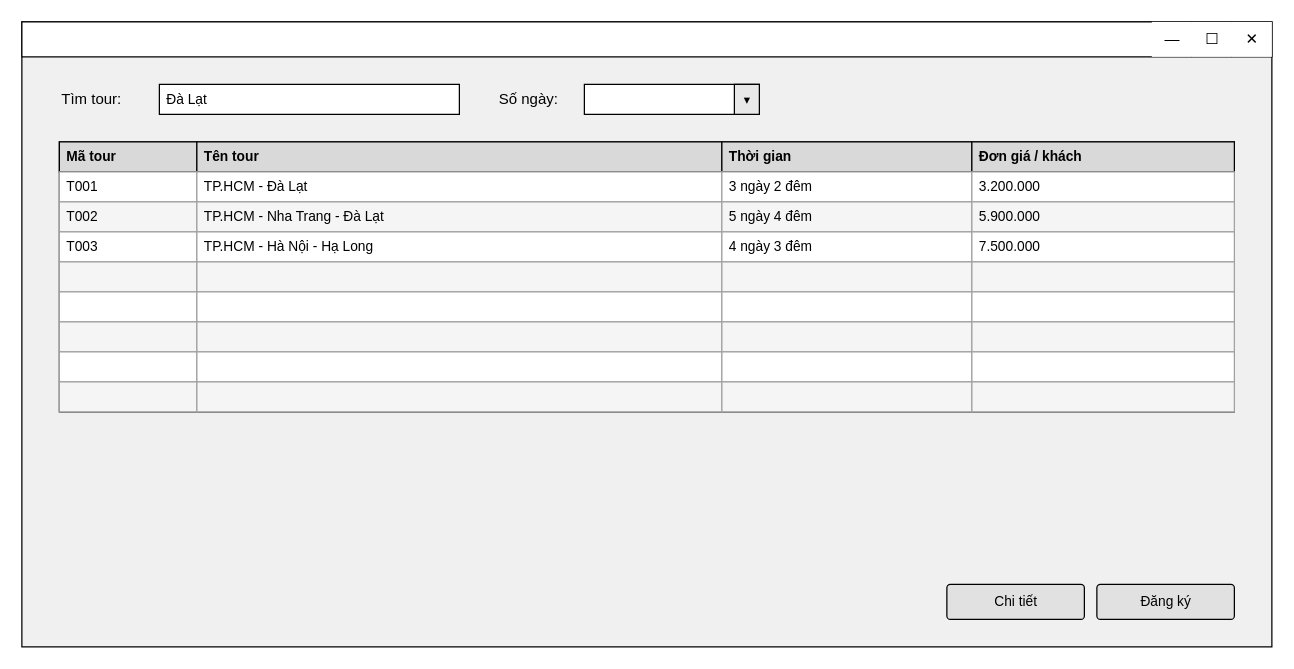
This 1294x669 diagram has some shape labels left out. Each missing label, with the box of its shape:
Danh sách tour: (21, 21, 1272, 57)
Tất cả: (583, 83, 759, 114)
